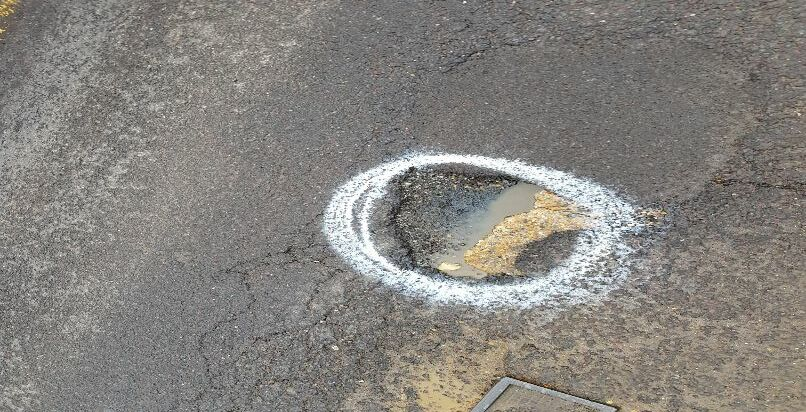pothole: (383, 162, 598, 290)
